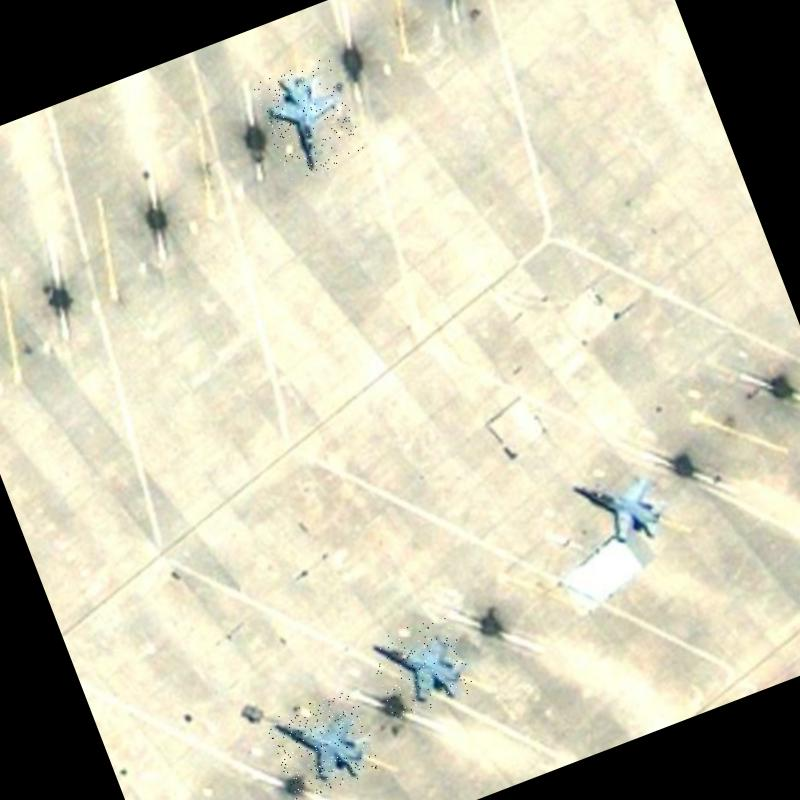A16: (251, 53, 367, 184), (264, 686, 384, 800), (364, 608, 478, 721), (568, 453, 678, 558)
